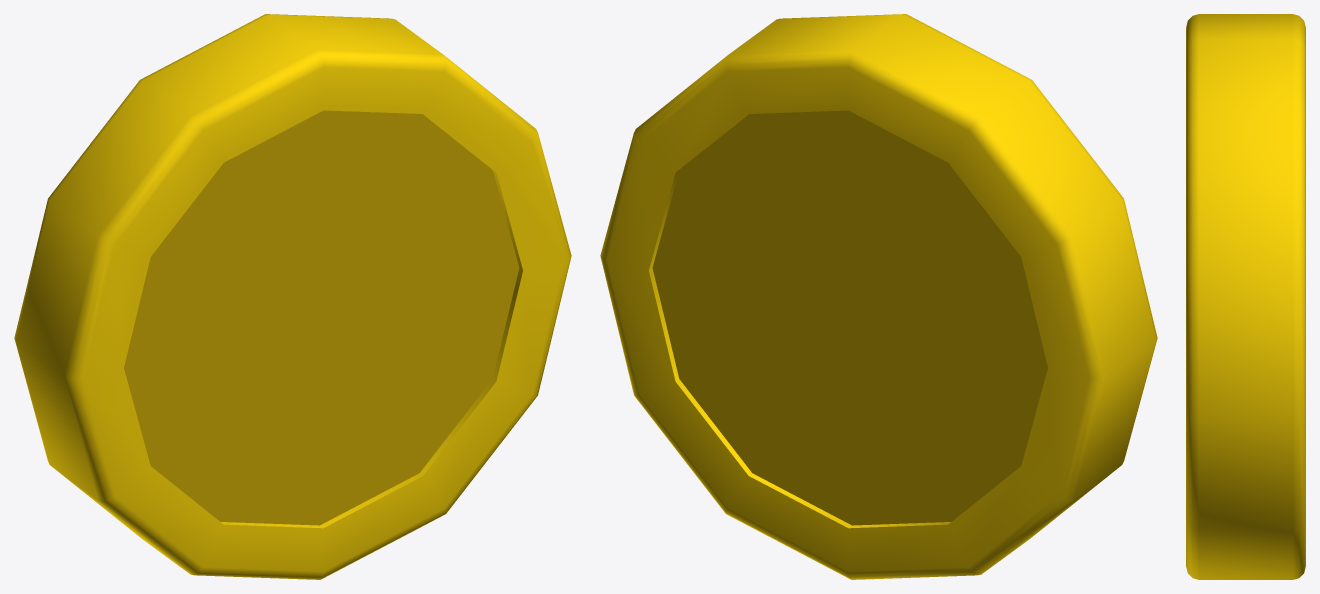
File: Coin.fbx
The picture shows the model from 3 angles, left to right: view 1: azimuth 30°, elevation 25°; view 2: azimuth 150°, elevation 25°; view 3: azimuth 270°, elevation 25°; orthographic projection. The views are drawn at different scales.
Parts seen in each view (by area): view 1: Coin; view 2: Coin; view 3: Coin.
Boxes of the visible parts, x1=… form: Coin: x1=14, y1=14, x2=571, y2=579; Coin: x1=600, y1=14, x2=1157, y2=579; Coin: x1=1186, y1=14, x2=1305, y2=579.
Bounding box in the file's own units: 0.2371 × 0.2371 × 0.05.
